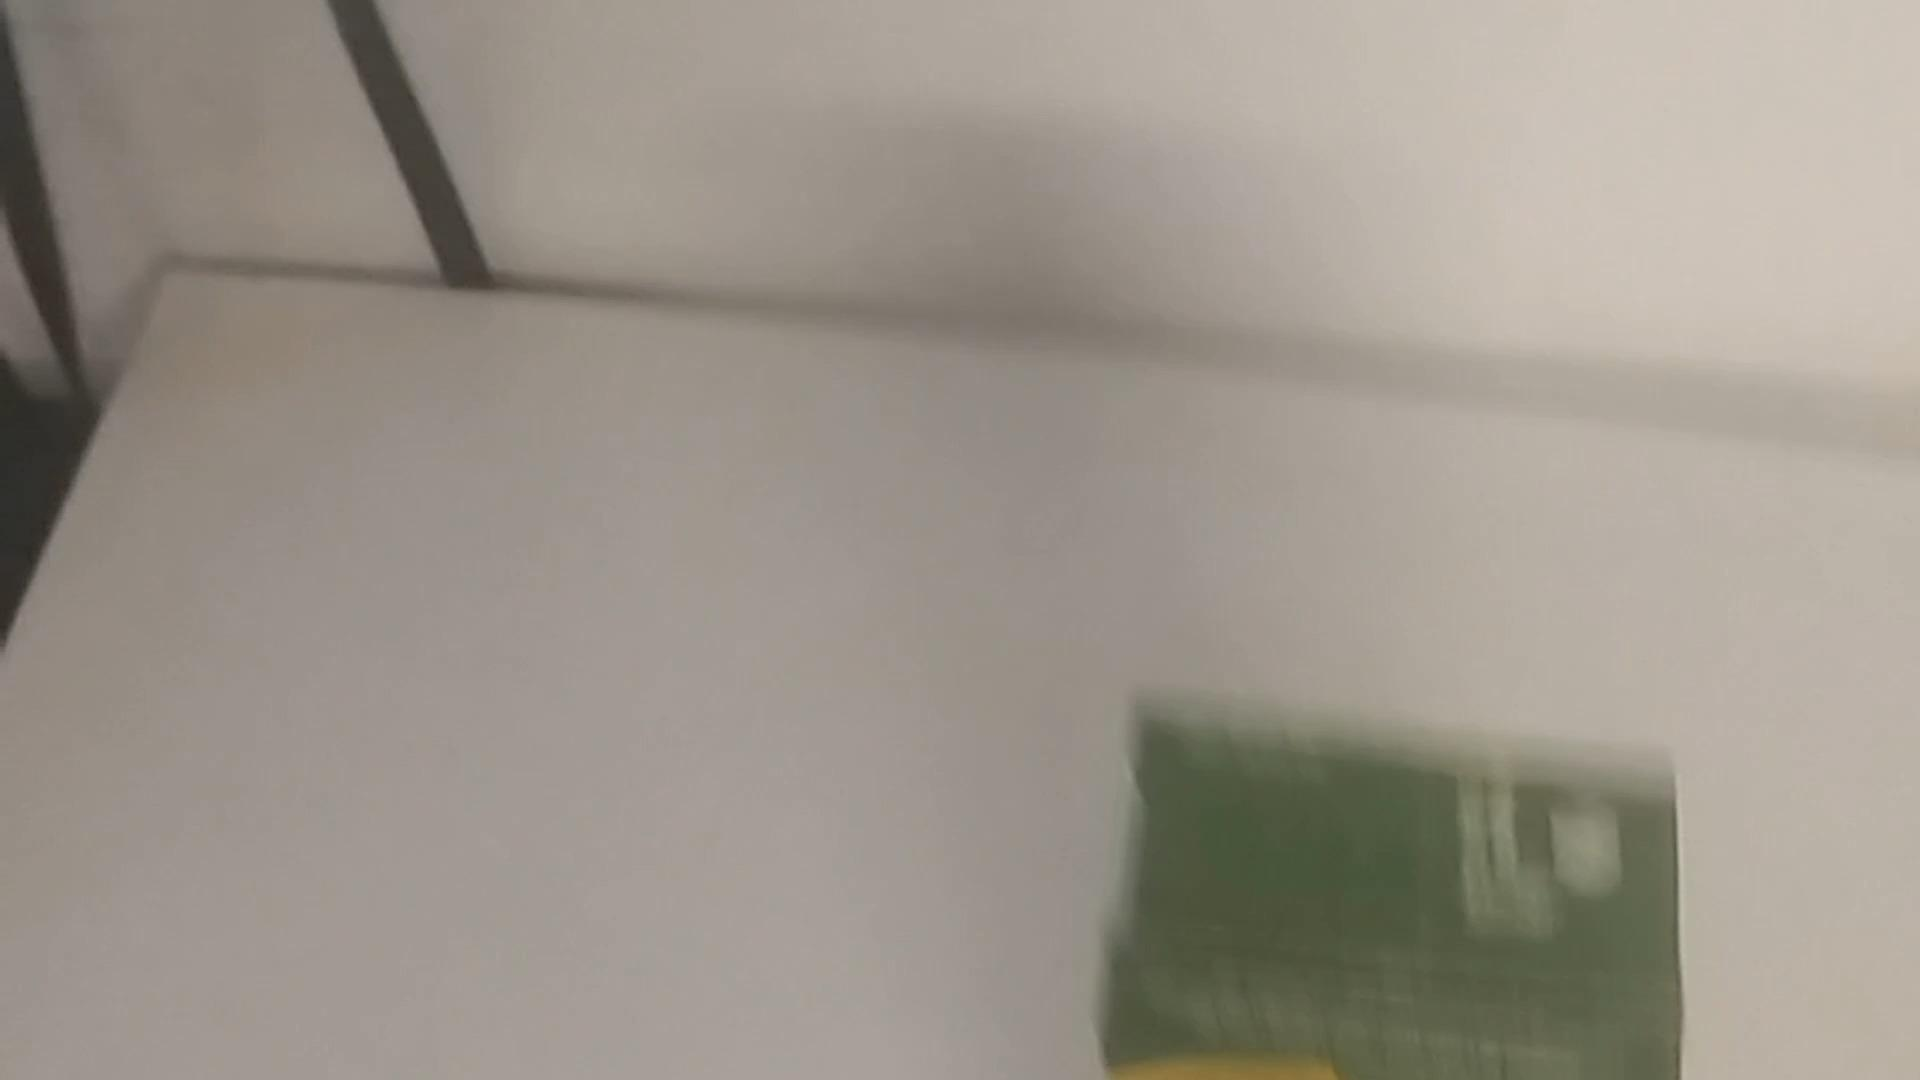coco: (1063, 687, 1708, 1080)
